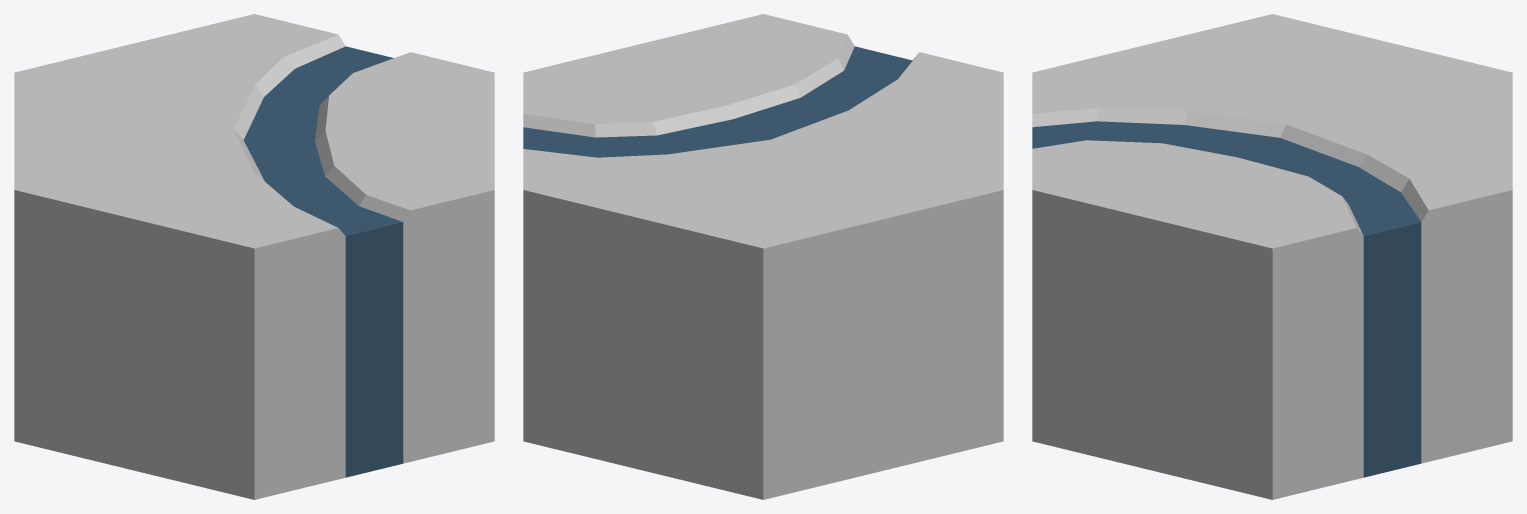
File: Hexagon2_2.fbx
3 views of the same model, side by side, from view 1: azimuth 30°, elevation 25°; view 2: azimuth 150°, elevation 25°; view 3: azimuth 270°, elevation 25° (orthographic).
Parts seen in each view (by area): view 1: Hex2_2; view 2: Hex2_2; view 3: Hex2_2.
Part boxes in pixels (left/top/right/bottom): Hex2_2: left=14, top=14, right=494, bottom=499; Hex2_2: left=523, top=14, right=1003, bottom=499; Hex2_2: left=1032, top=14, right=1512, bottom=499.
Bounding box in the file's own units: 1000 × 500 × 866.
